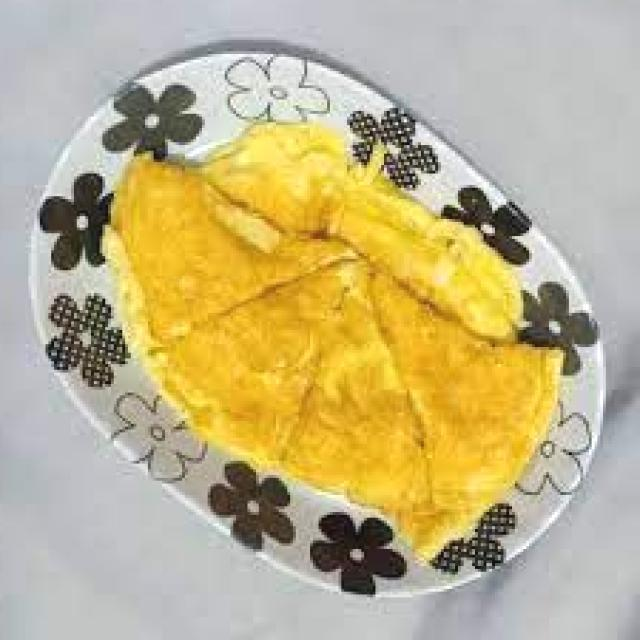telur dadar: (100, 119, 566, 560)
